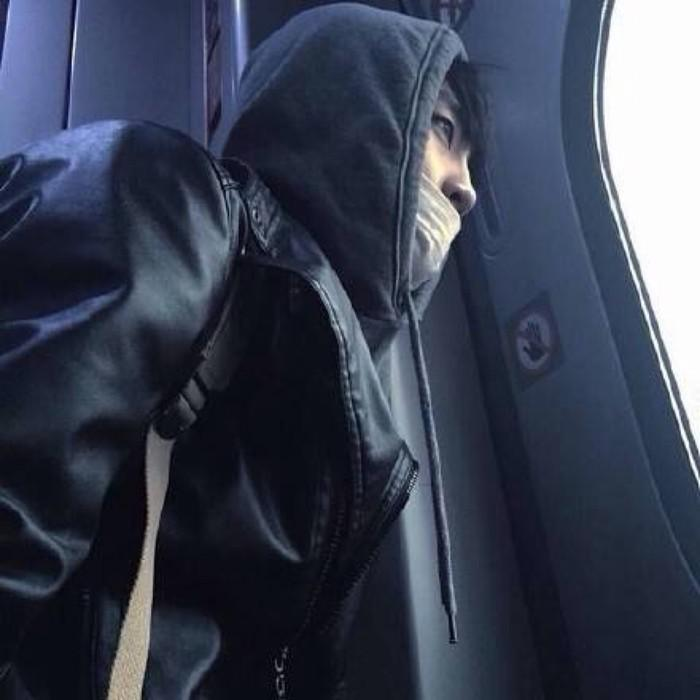WRONG: (377, 102, 486, 282)
